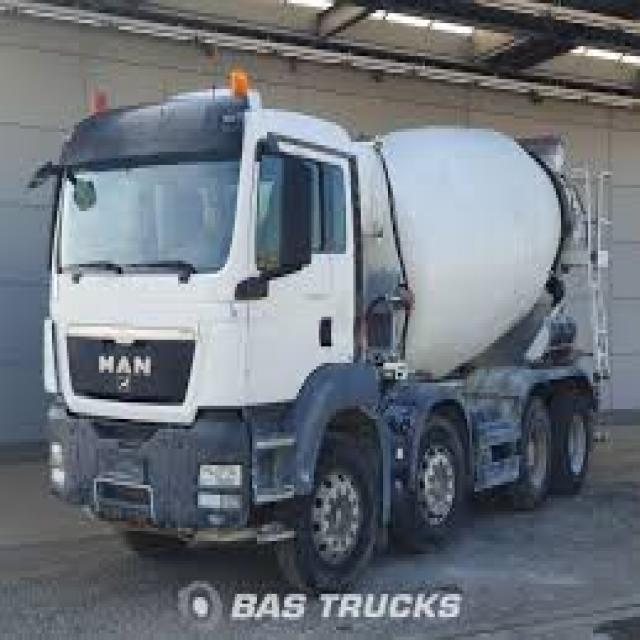Mixer Truck: (25, 63, 616, 601)
